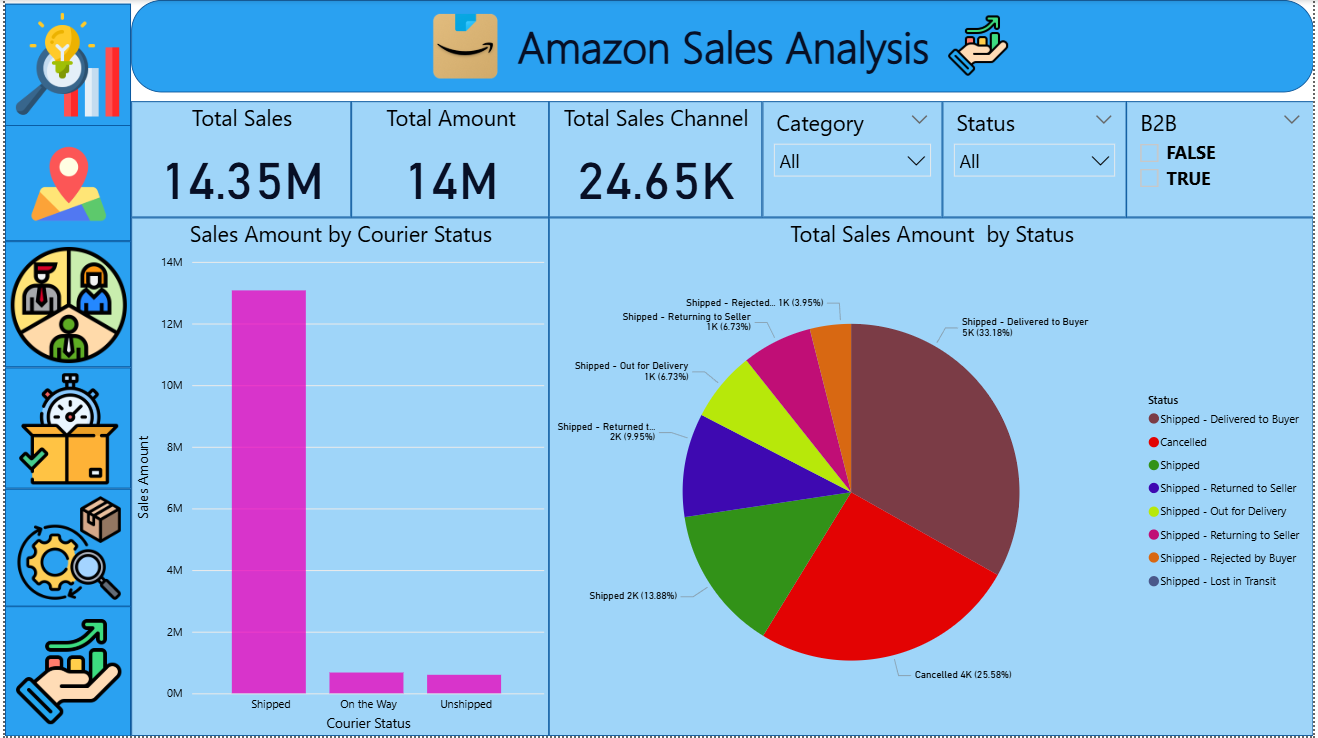

The page's visual inventory and layout, read from the dashboard file:
{"tool":"powerbi","page":{"name":"Sales Analysis","canvas":[1280,720],"ordinal":0},"visuals":[{"type":"card","title":"Total Sales","fields":{"Values":["Amazon Sale Report.Total Sales"]},"box":[123.5,99,215.2,113.7],"z":0},{"type":"card","title":"Total Amount","fields":{"Values":["Sum(Amazon Sale Report.Amount)"]},"box":[338.9,98.8,193.5,113.9],"z":1000},{"type":"card","title":"Total Sales Channel","fields":{"Values":["CountNonNull(Amazon Sale Report.Sales Channel)"]},"box":[532.4,98.8,208.6,113.9],"z":2000},{"type":"slicer","fields":{"Values":["Amazon Sale Report.Status"]},"box":[916.6,98.8,179.8,113.9],"z":3000},{"type":"slicer","fields":{"Values":["Amazon Sale Report.Category"]},"box":[741,98.8,175.6,113.9],"z":4000},{"type":"slicer","fields":{"Values":["Amazon Sale Report.B2B"]},"box":[1096.4,98.8,183.9,113.9],"z":5000},{"type":"textbox","box":[123.5,0,1156.8,90.5],"z":6000},{"type":"clusteredColumnChart","fields":{"Category":["Amazon Sale Report.Courier Status"],"Y":["Sum(Amazon Sale Report.Amount)"]},"box":[123.5,212.8,408.4,507.5],"z":7000},{"type":"pieChart","fields":{"Category":["Amazon Sale Report.Status"],"Y":["Max(Amazon Sale Report.Amount)"]},"box":[531.9,212.8,748.4,507.5],"z":8000},{"type":"image","box":[0,593.1,123.5,127.2],"z":9000},{"type":"image","box":[0,359.5,123.5,118.6],"z":10000},{"type":"image","box":[0,236,123.5,123.5],"z":11000},{"type":"image","box":[0,3.7,123.5,119.8],"z":12000},{"type":"image","box":[0,122.3,123.5,113.7],"z":13000},{"type":"image","box":[906.1,7.3,91.7,74.6],"z":14000},{"type":"image","box":[0,478.1,123.5,114.9],"z":15000},{"type":"image","box":[382.7,0,135.7,90.5],"z":16000}]}

Visuals, with their boxes in screenshot pixels (x1, y1, x2, y2), scaled from the page's 1280x720 canvas onto the 1318x738 screenshot:
"Total Sales" card: [left=127, top=101, right=349, bottom=218]
"Total Amount" card: [left=349, top=101, right=548, bottom=218]
"Total Sales Channel" card: [left=548, top=101, right=763, bottom=218]
slicer - Amazon Sale Report.Status: [left=944, top=101, right=1129, bottom=218]
slicer - Amazon Sale Report.Category: [left=763, top=101, right=944, bottom=218]
slicer - Amazon Sale Report.B2B: [left=1129, top=101, right=1317, bottom=218]
textbox: [left=127, top=0, right=1317, bottom=93]
clusteredColumnChart - Amazon Sale Report.Courier Status x Sum(Amazon Sale Report.Amount): [left=127, top=218, right=548, bottom=737]
pieChart - Amazon Sale Report.Status x Max(Amazon Sale Report.Amount): [left=548, top=218, right=1317, bottom=737]
image: [left=0, top=608, right=127, bottom=737]
image: [left=0, top=368, right=127, bottom=490]
image: [left=0, top=242, right=127, bottom=368]
image: [left=0, top=4, right=127, bottom=127]
image: [left=0, top=125, right=127, bottom=242]
image: [left=933, top=7, right=1027, bottom=84]
image: [left=0, top=490, right=127, bottom=608]
image: [left=394, top=0, right=534, bottom=93]
